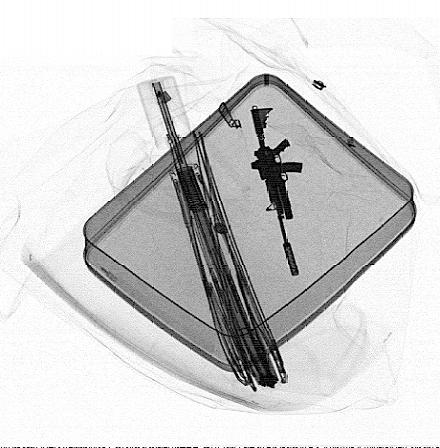Gun: (247, 107, 303, 278)
